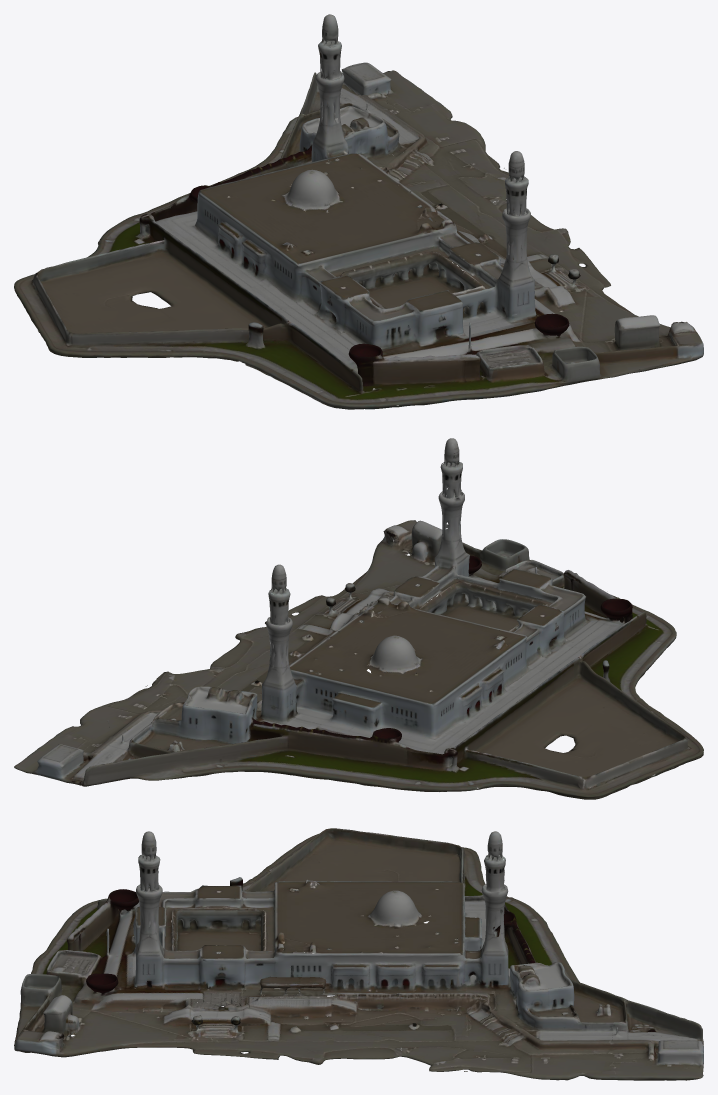
File: seven-mosques.glb
The picture shows the model from 3 angles, top to bottom: view 1: azimuth 30°, elevation 25°; view 2: azimuth 150°, elevation 25°; view 3: azimuth 270°, elevation 25°; orthographic projection. The views are drawn at different scales.
Visible parts, largest first — view 1: tripo_node_73cc617c; view 2: tripo_node_73cc617c; view 3: tripo_node_73cc617c.
Boxes of the visible parts, bbox=[...] form: tripo_node_73cc617c: bbox=[14, 14, 703, 409]; tripo_node_73cc617c: bbox=[14, 438, 703, 799]; tripo_node_73cc617c: bbox=[14, 828, 703, 1080].
Bounding box in the file's own units: 82.55 × 26.63 × 97.74.
1 material, 1 textured.
